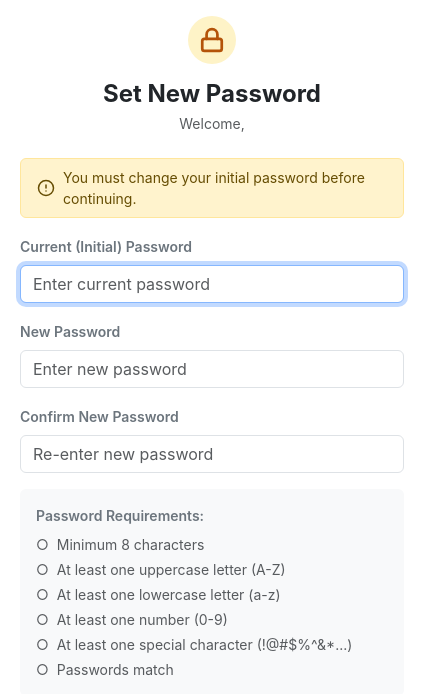
Test: ChangePasswordView Component (Issue 20 - UI-02) › dynamically evaluates password checklist criteria as user inputs new password
The width and height of the screenshot is (425, 694).
Check: the list item with test id "rule-min-length" shows "○", box [36, 536, 49, 553]
Check: the list item with test id "rule-uppercase" shows "○", box [36, 561, 49, 578]
// Type lowercase only
Type "password" into the password field labelled "New Password" at (212, 369), box [20, 350, 404, 388]
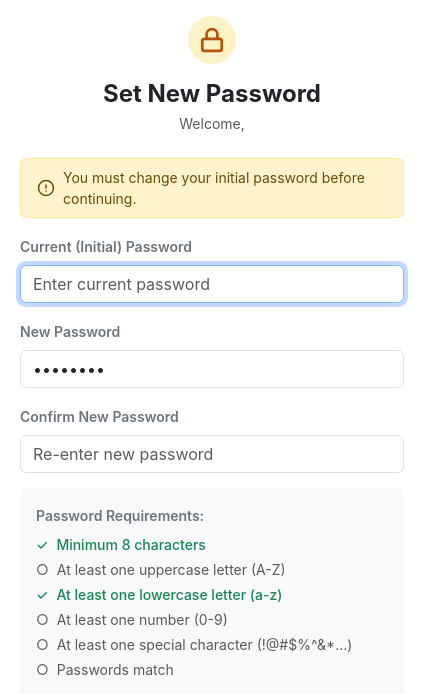
Check: the list item with test id "rule-uppercase" shows "○", box [36, 561, 49, 578]
Check: the list item with test id "rule-min-length" shows "✓", box [36, 536, 48, 553]
Check: the list item with test id "rule-lowercase" shows "✓", box [36, 586, 48, 603]
// Add uppercase and number
Type "Password123" into the password field labelled "New Password" at (212, 369), box [20, 350, 404, 388]
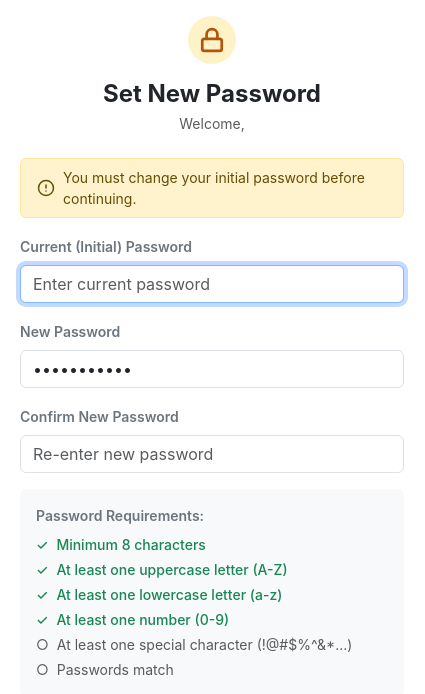
Check: the list item with test id "rule-special" shows "○", box [36, 636, 49, 653]
Check: the list item with test id "rule-uppercase" shows "✓", box [36, 561, 48, 578]
Check: the list item with test id "rule-number" shows "✓", box [36, 611, 48, 628]
// Add special character
Type "Password123!" into the password field labelled "New Password" at (212, 369), box [20, 350, 404, 388]
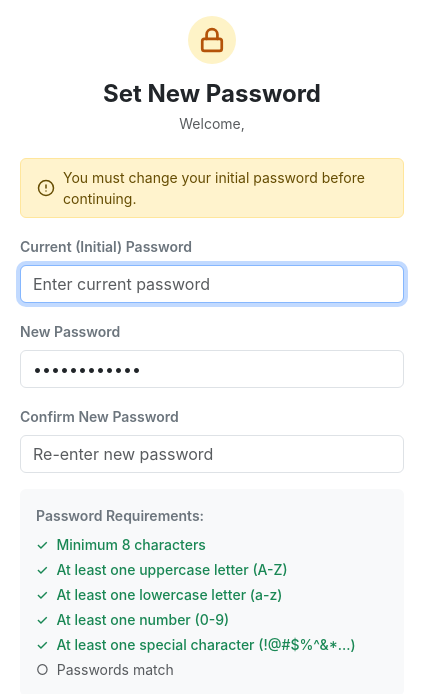
Check: the list item with test id "rule-match" shows "○", box [36, 661, 49, 678]
Check: the list item with test id "rule-special" shows "✓", box [36, 636, 48, 653]
// Type matching confirmation
Type "Password123!" into the password field labelled "Confirm New Password" at (212, 454), box [20, 435, 404, 473]
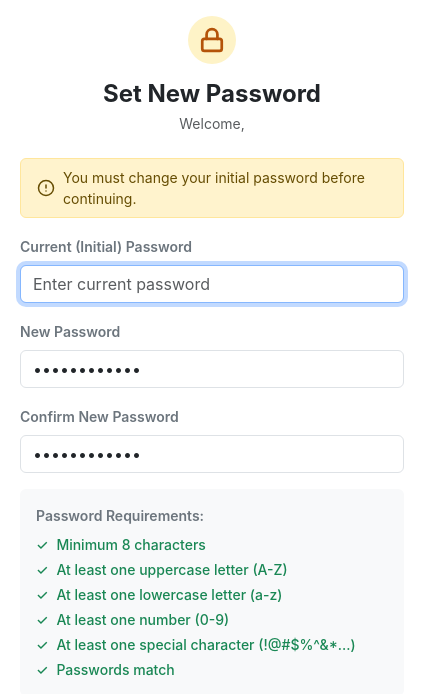
Check: the list item with test id "rule-match" shows "✓", box [36, 661, 48, 678]
